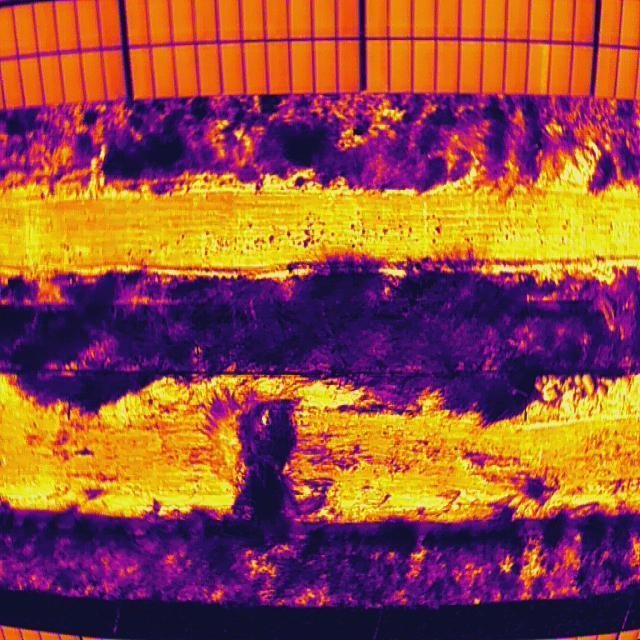diode: (529, 42, 549, 94)
